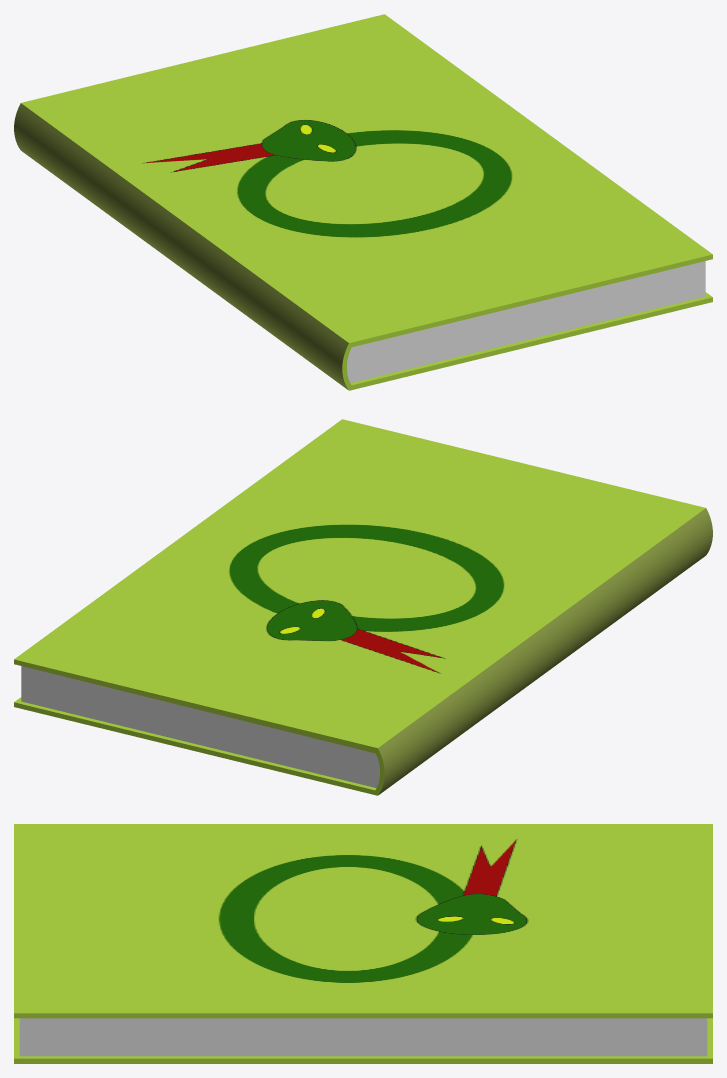
The model's file is charm book 2.fbx.
3 views of the same model, one above another, from view 1: azimuth 30°, elevation 25°; view 2: azimuth 150°, elevation 25°; view 3: azimuth 270°, elevation 25° (orthographic). The views are drawn at different scales.
Visible parts, largest first — view 1: book_shape:polySurface1; view 2: book_shape:polySurface1; view 3: book_shape:polySurface1.
Boxes of the visible parts, x1=… form: book_shape:polySurface1: x1=14, y1=14, x2=712, y2=390; book_shape:polySurface1: x1=14, y1=419, x2=712, y2=795; book_shape:polySurface1: x1=14, y1=824, x2=712, y2=1063.
Size of the model in its own units: 16.3 by 2 by 25.
Materials: 3 (1 with a texture image).
